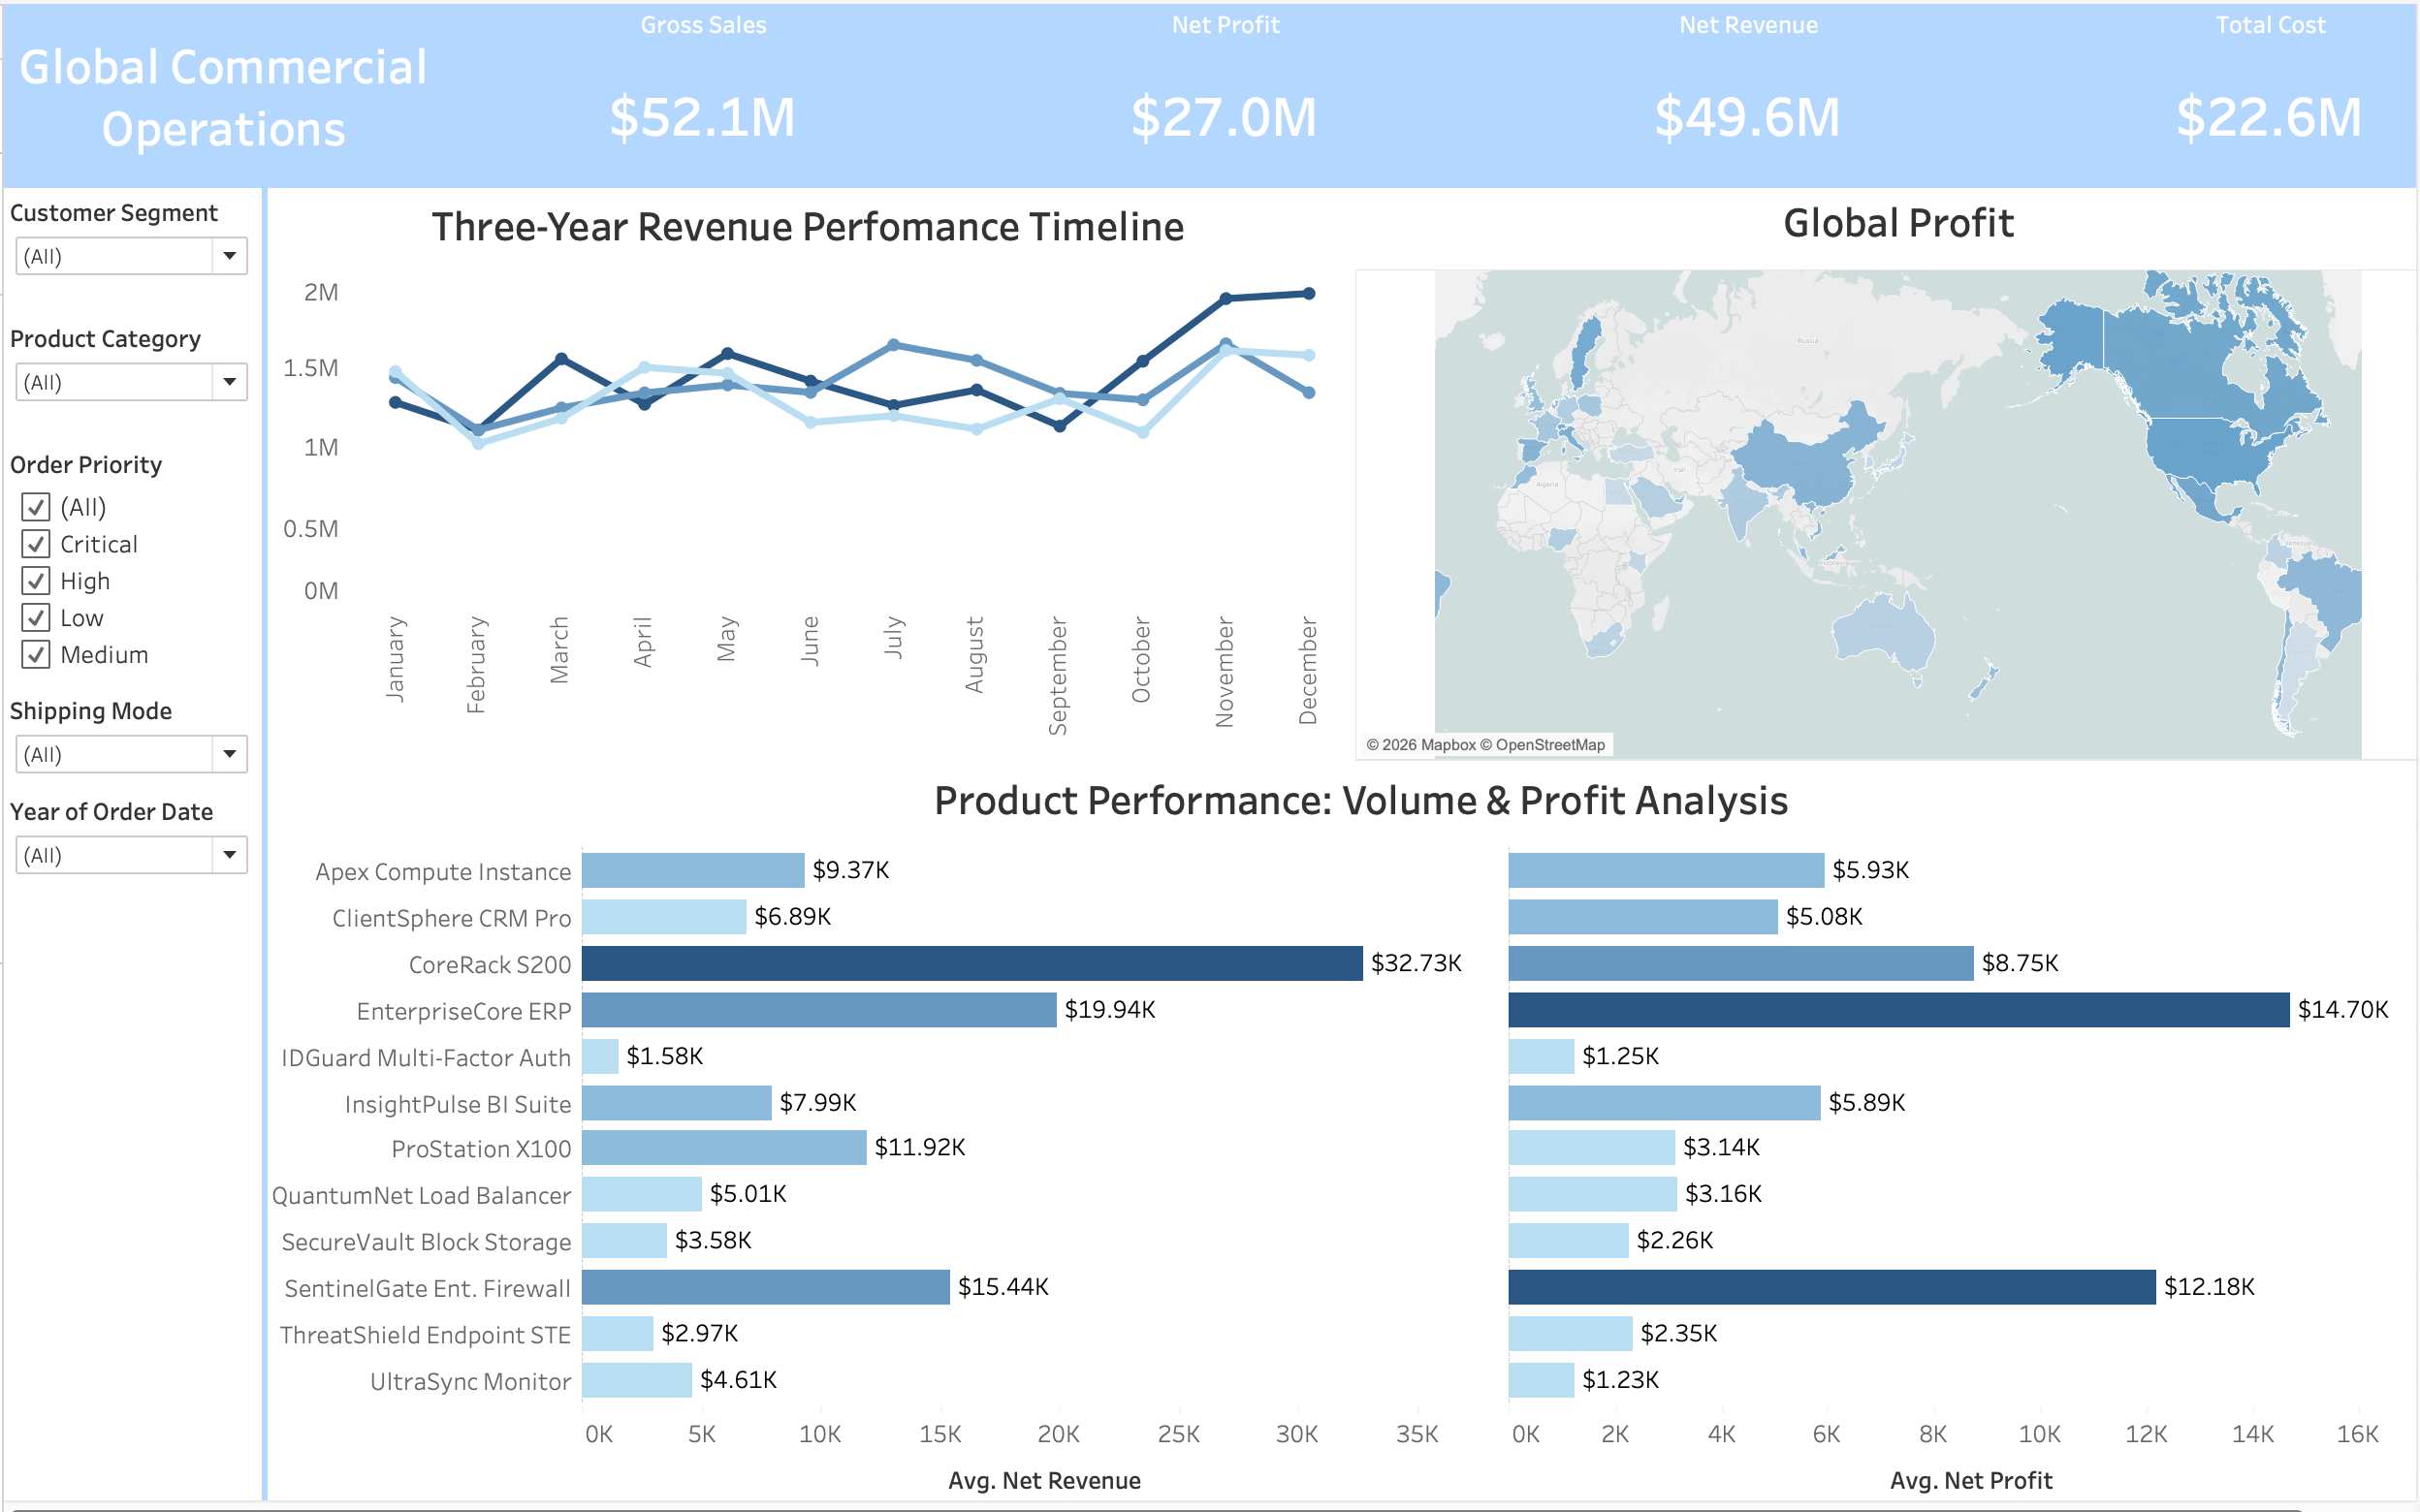

The page's visual inventory and layout, read from the dashboard file:
{"tool":"tableau","page":{"name":"GCO Dashboard","canvas":[1300,800],"ordinal":0},"visuals":[{"type":"text","box":[0,0,227,95]},{"type":"worksheet","title":"KPIs Summary","mark":"Automatic","box":[226,0,1078,95]},{"type":"worksheet","title":"Global Profit","mark":"Multipolygon","box":[697,94,561,297]},{"type":"worksheet","title":"Trend Chart","mark":"Automatic","rows":["Net_Revenue"],"cols":["Order_Date"],"box":[136,96,558,295]},{"type":"worksheet","title":"Product Perfomance","mark":"Automatic","rows":["Product_Name"],"cols":["Net_Revenue","Net_Profit"],"box":[138,392,1116,385]}]}

Visuals, with their boxes in screenshot pixels (x1, y1, x2, y2), scaled from the page's 1300x800 canvas onto the 2420x1512 screenshot:
text: (0, 0, 423, 179)
"KPIs Summary" worksheet: (421, 0, 2419, 179)
"Global Profit" worksheet (Multipolygon marks): (1297, 177, 2341, 739)
"Trend Chart" worksheet: (253, 181, 1291, 739)
"Product Perfomance" worksheet: (257, 740, 2335, 1468)
